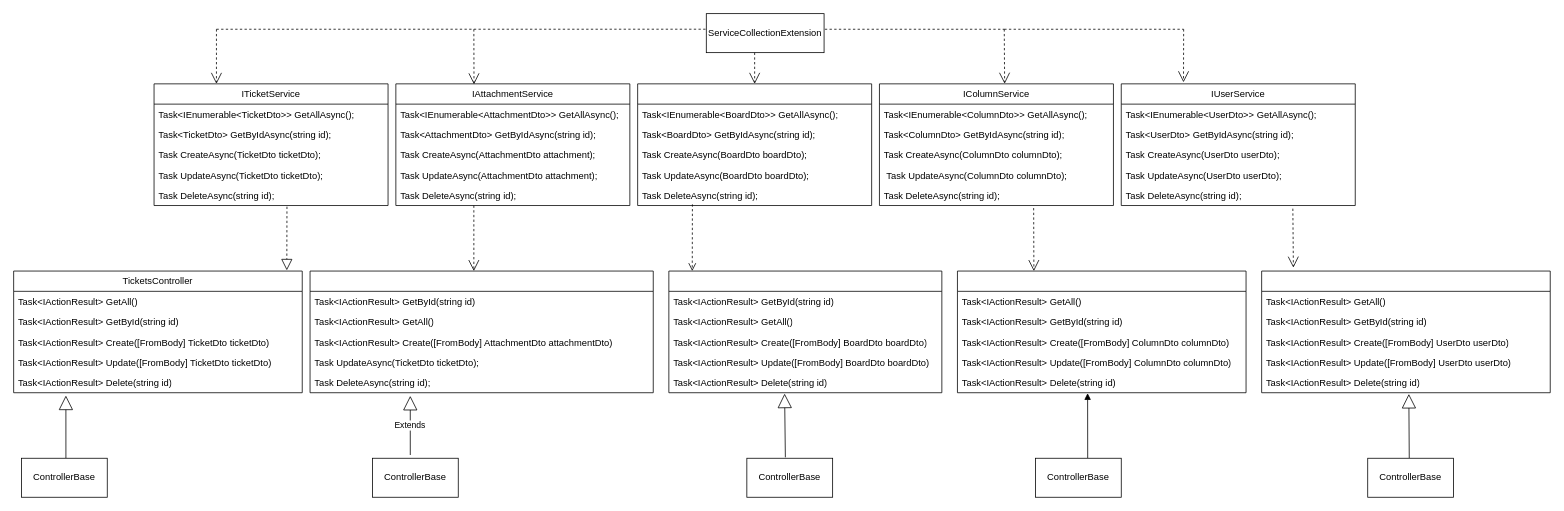
The diagram is 1564 pixels wide and 511 high, and some of its shapes have lost their labels. The shapes that lost their labels are listed below. From the top down, each one's box as (x1, y1, x2, y2) in pixels, then its label:
(637, 83, 872, 206): IBoardService
(309, 270, 653, 393): AttachmentsController
(668, 270, 942, 393): BoardsController
(957, 270, 1246, 393): ColumnsController
(1261, 270, 1550, 393): UsersController
